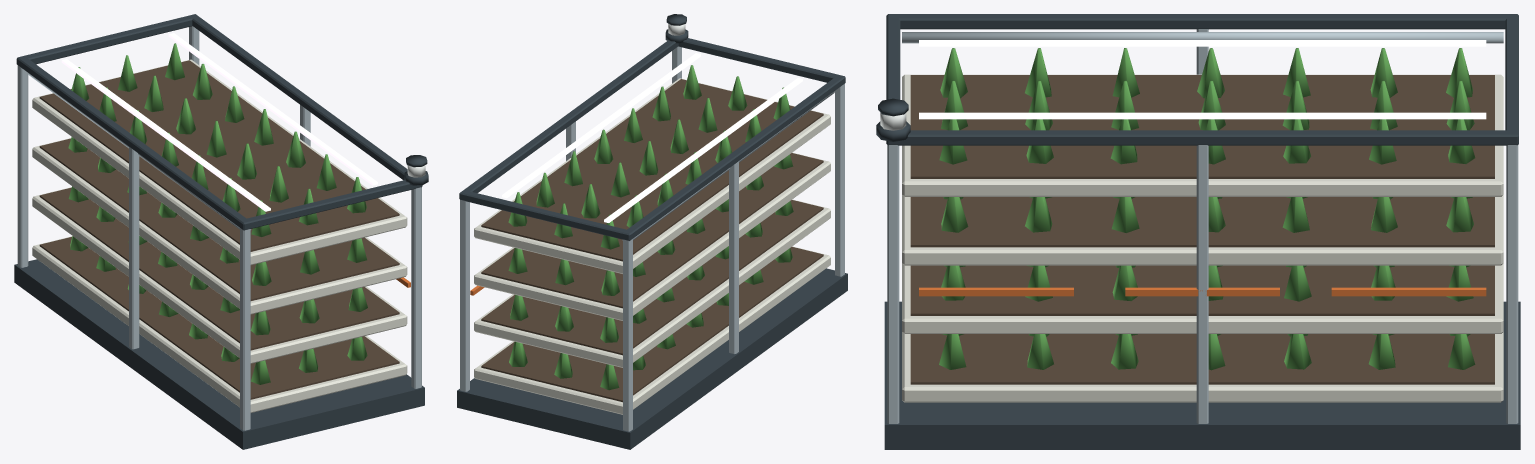
Rendered from verticalfarm.glb.
The picture shows the model from 3 angles, left to right: view 1: azimuth 30°, elevation 25°; view 2: azimuth 150°, elevation 25°; view 3: azimuth 270°, elevation 25°; orthographic projection. The views are drawn at different scales.
Visible parts, largest first — view 1: Tower, Plants.001, Lamp.001; view 2: Tower, Plants.001, Lamp.001; view 3: Tower, Plants.001, Lamp.001.
Boxes of the visible parts, x1,y1,x2,y2 form: Tower: (14,14,424,449); Plants.001: (68,43,367,384); Lamp.001: (404,155,428,185); Tower: (457,38,847,449); Plants.001: (508,65,793,390); Lamp.001: (665,14,688,43); Tower: (884,14,1520,449); Plants.001: (939,48,1475,370); Lamp.001: (876,98,910,141).
Size of the model in its own units: 1.75 by 2.19 by 3.75.
